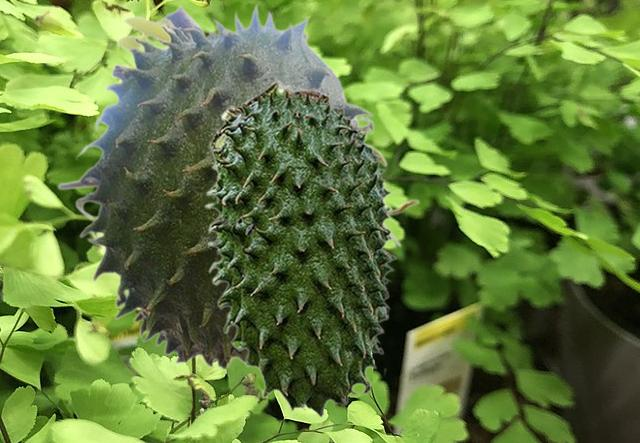guyabano: (56, 1, 420, 371), (204, 78, 397, 417)
